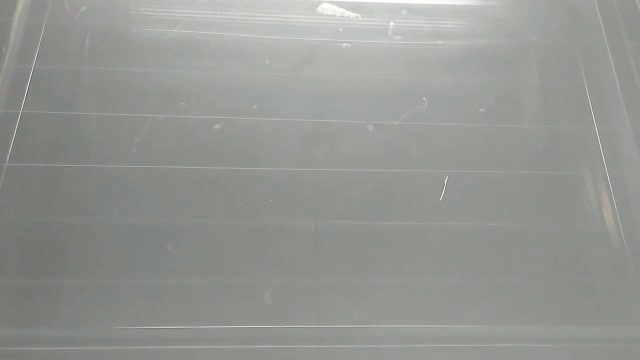alpha: (312, 1, 364, 21)
